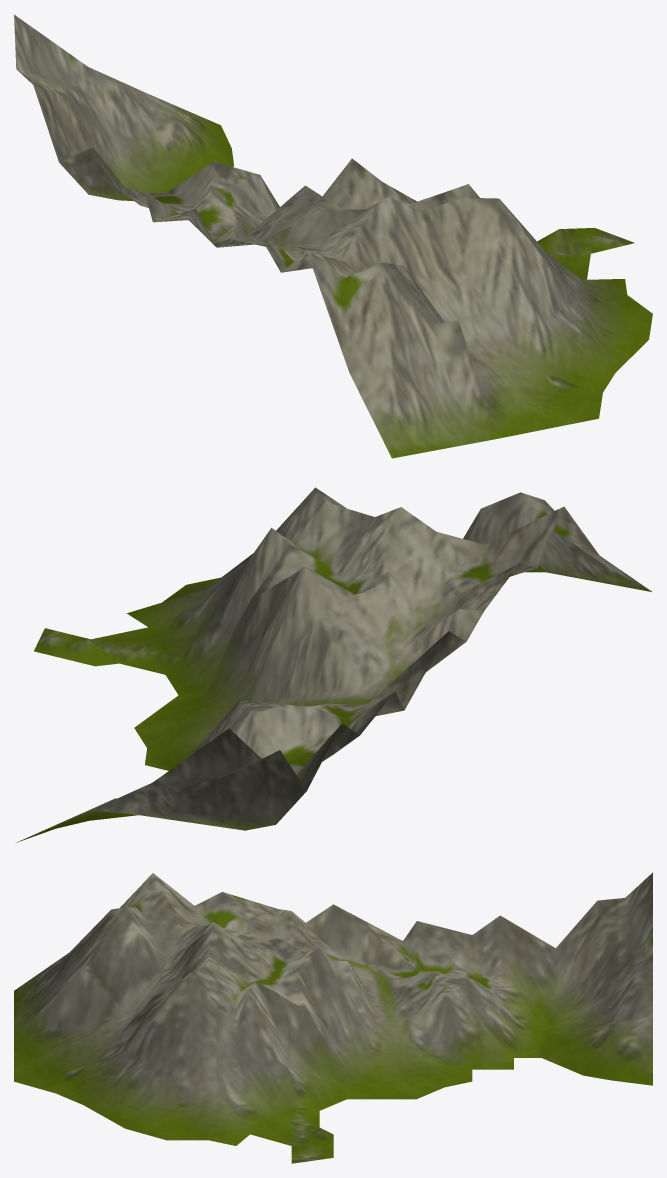
File: Terrain_21.fbx
3 views of the same model, one above another, from view 1: azimuth 30°, elevation 25°; view 2: azimuth 150°, elevation 25°; view 3: azimuth 270°, elevation 25° (orthographic). The views are drawn at different scales.
Visible parts, largest first — view 1: Terrain_21; view 2: Terrain_21; view 3: Terrain_21.
Part boxes in pixels (x1,y1,x2,y2): Terrain_21: [14, 14, 652, 458]; Terrain_21: [16, 487, 651, 842]; Terrain_21: [14, 872, 652, 1163].
Size of the model in its own units: 22.63 by 8.55 by 37.17.
